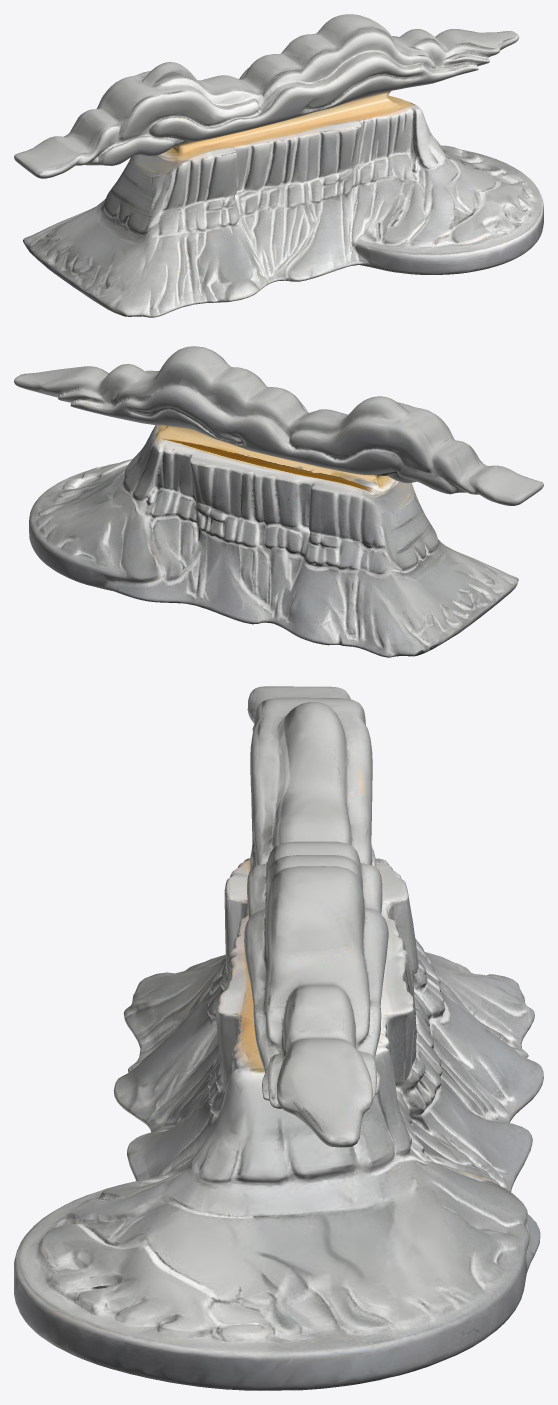
The model's file is table_mountain.glb.
3 renders of one model, top to bottom at view 1: azimuth 30°, elevation 25°; view 2: azimuth 150°, elevation 25°; view 3: azimuth 270°, elevation 25°, orthographic. The views are drawn at different scales.
Parts seen in each view (by area): view 1: Mesh_0; view 2: Mesh_0; view 3: Mesh_0.
Part boxes in pixels (box(x1,y1,x2,y2)): Mesh_0: box(14, 14, 543, 317); Mesh_0: box(14, 346, 543, 657); Mesh_0: box(14, 686, 543, 1390).
Size of the model in its own units: 1.9 by 0.7413 by 0.9386.
Materials: 1 (1 with a texture image).
